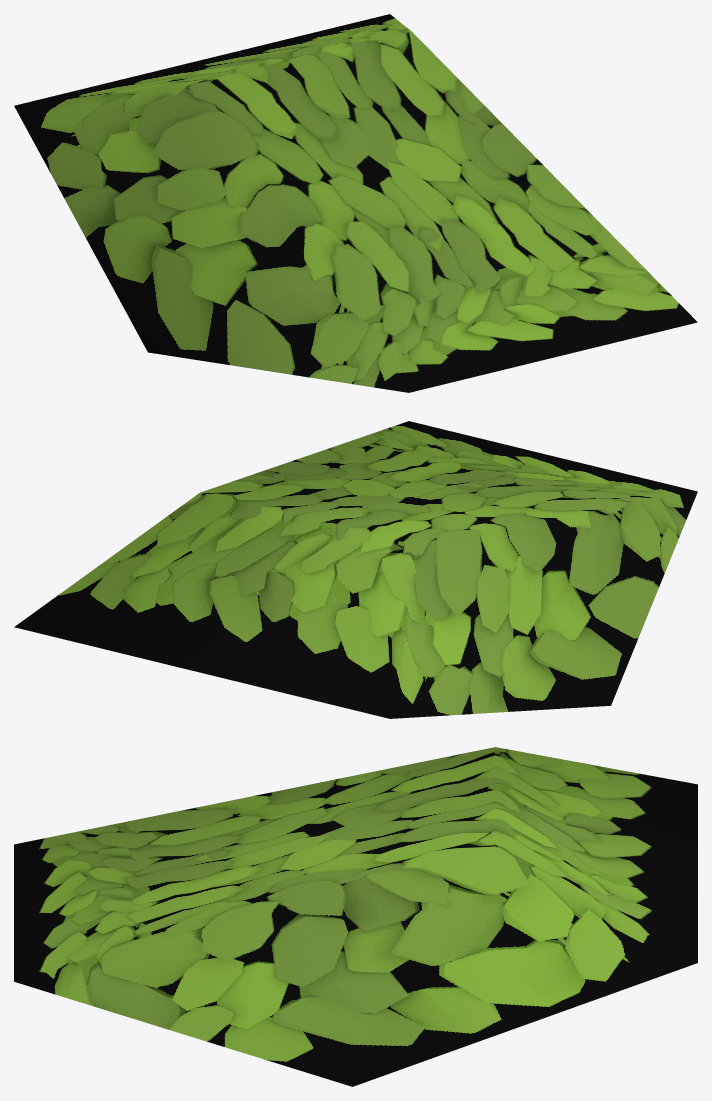
File: Foliage1.gltf
3 renders of one model, top to bottom at view 1: azimuth 30°, elevation 25°; view 2: azimuth 150°, elevation 25°; view 3: azimuth 270°, elevation 25°, orthographic. The views are drawn at different scales.
Parts seen in each view (by area): view 1: Foliage1; view 2: Foliage1; view 3: Foliage1.
Boxes of the visible parts, <box> form: Foliage1: <box>14,14,697,392</box>; Foliage1: <box>14,421,697,718</box>; Foliage1: <box>14,747,697,1086</box>.
Size of the model in its own units: 0.6364 by 0.2424 by 0.8366.
1 material, 1 textured.
